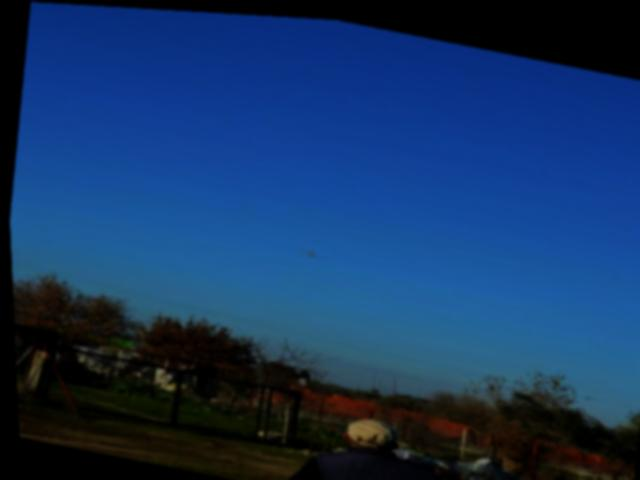iha: (295, 245, 324, 256)
